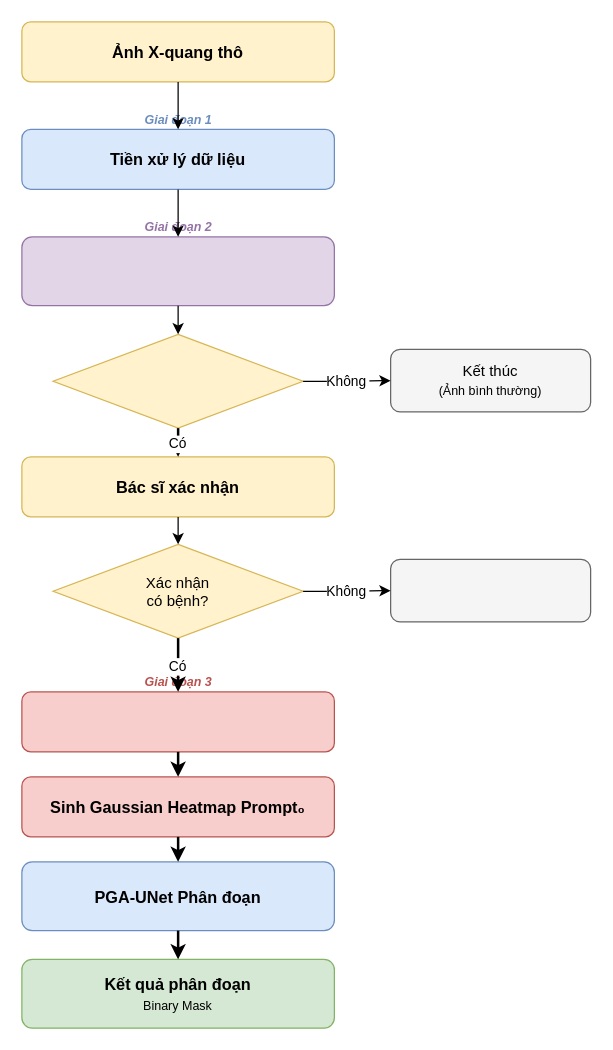
Some shapes in this 613 by 1050 pixel diagram are drawn without their labels. Here are the shapes that lost their labels. From the top down, the centre of each, then its label:
At pixel 177 271: "Sàng lọc bệnh lý EfficientNet_B3".
At pixel 177 380: "Phát hiện tổn thương?".
At pixel 490 590: "Kết thúc (Bác sĩ bác bỏ)".
At pixel 177 721: "Bác sĩ vẽ Bounding Box".
